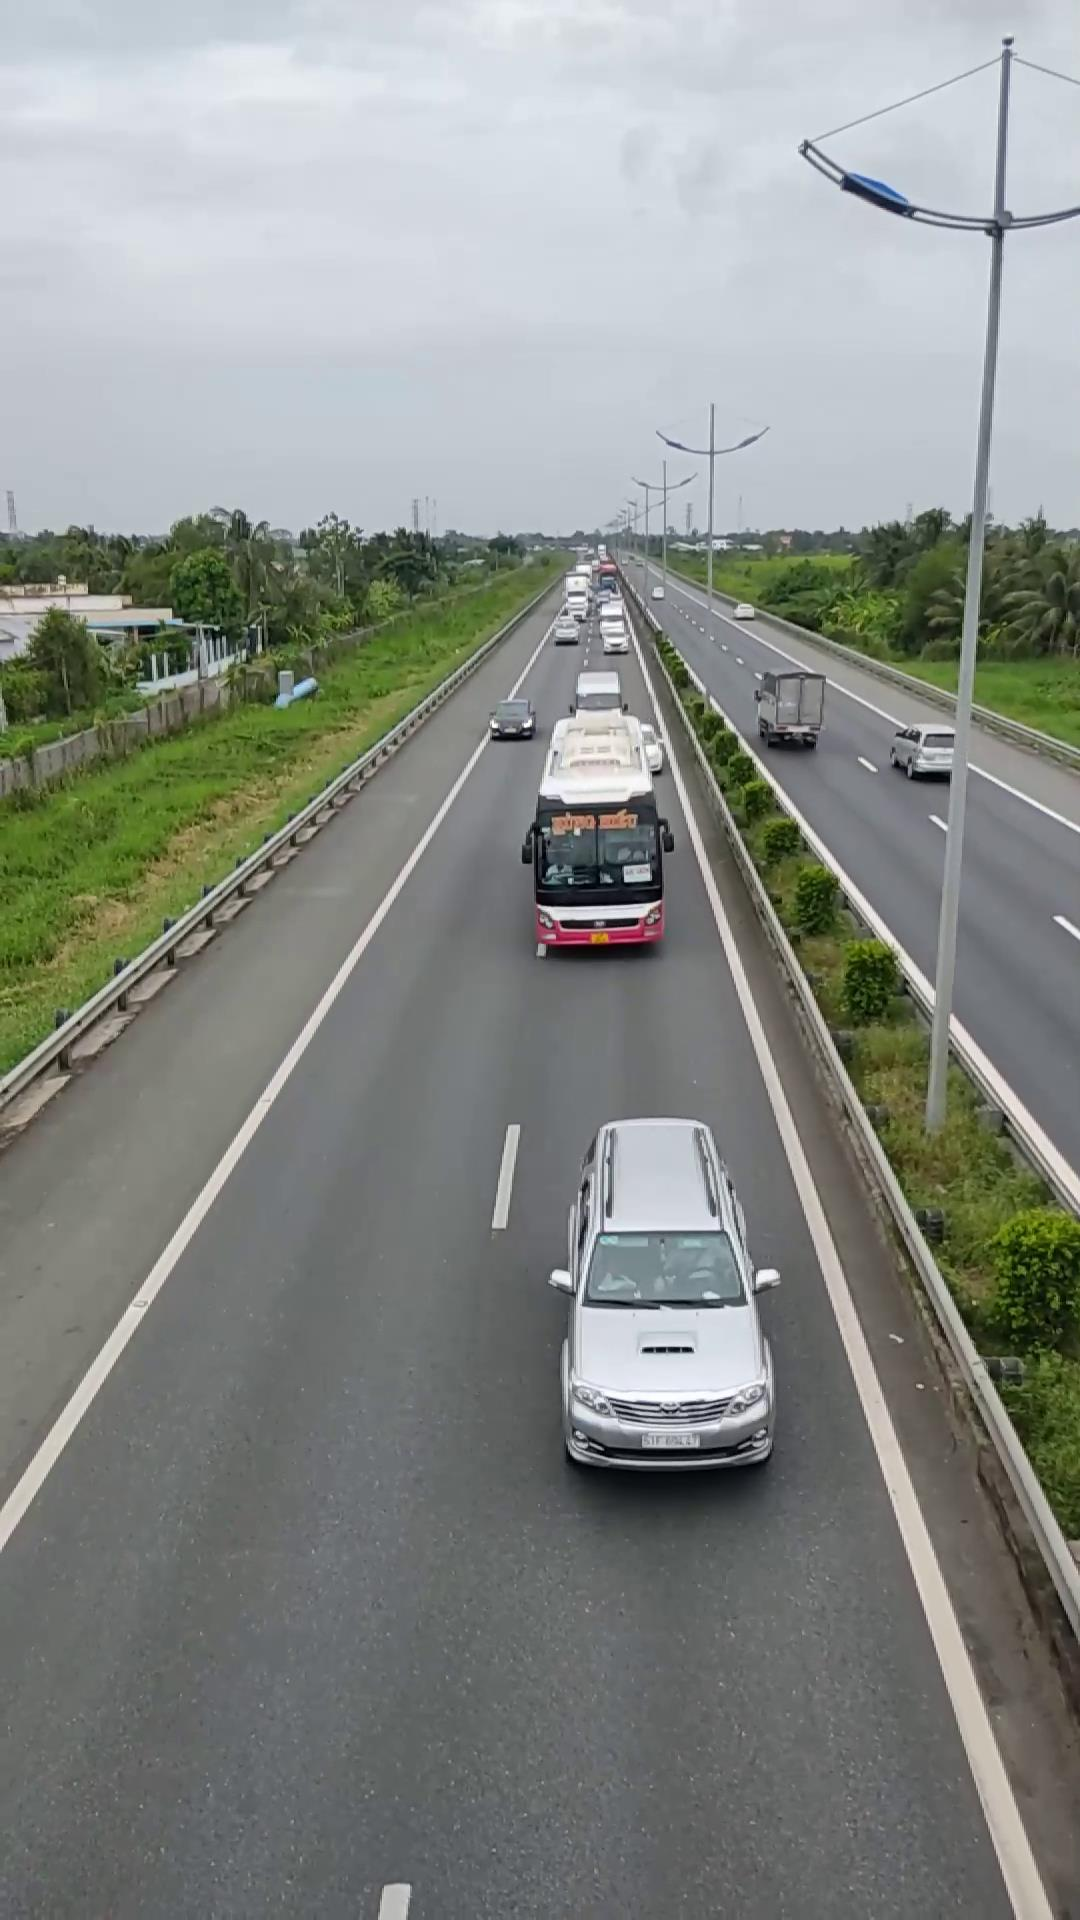bus: (520, 717, 673, 949)
car: (553, 1116, 781, 1469)
truck: (753, 663, 827, 749)
